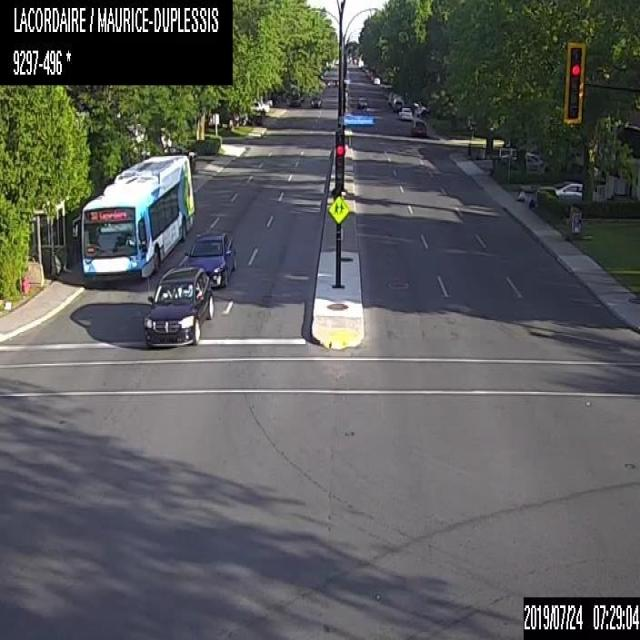bus: (79, 152, 196, 275)
vehicle: (144, 266, 210, 348), (181, 235, 234, 288), (534, 180, 598, 202), (500, 150, 542, 170), (249, 100, 270, 113), (411, 117, 425, 136), (398, 106, 413, 120), (392, 94, 404, 111), (309, 93, 322, 107), (356, 95, 368, 109), (326, 76, 336, 86), (372, 75, 380, 84)
